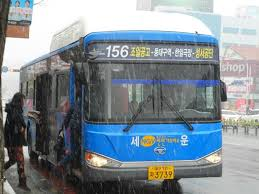bnum: (104, 44, 129, 58)
